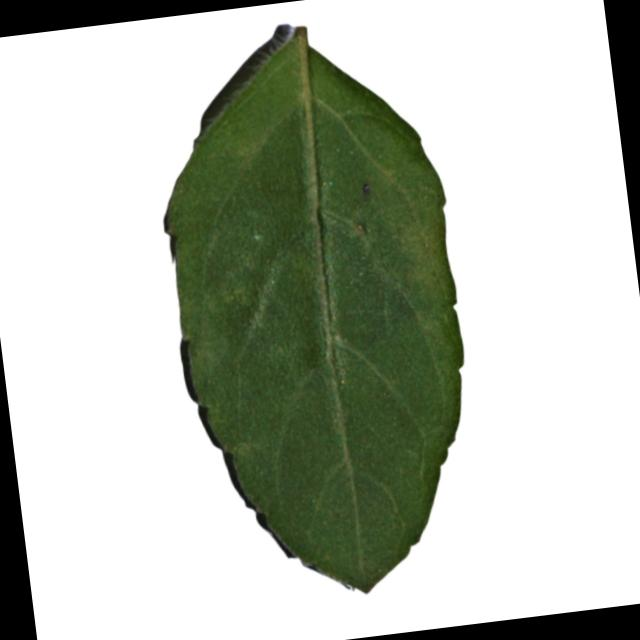tulsi: (139, 6, 499, 616)
